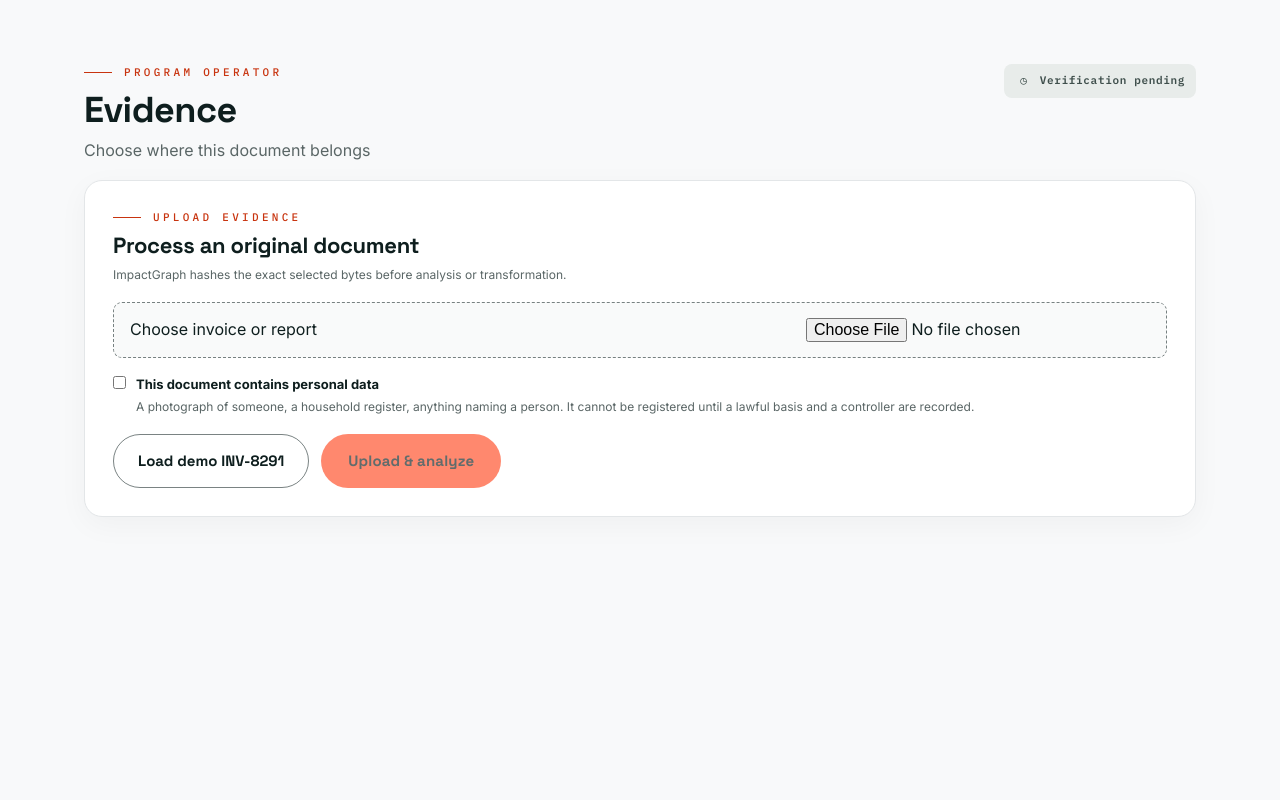
Operator evidence workflow › surfaces an actionable error when registration fails
Step 1. Click the button "Load demo INV-8291" → click(211, 461), box [113, 434, 309, 488]
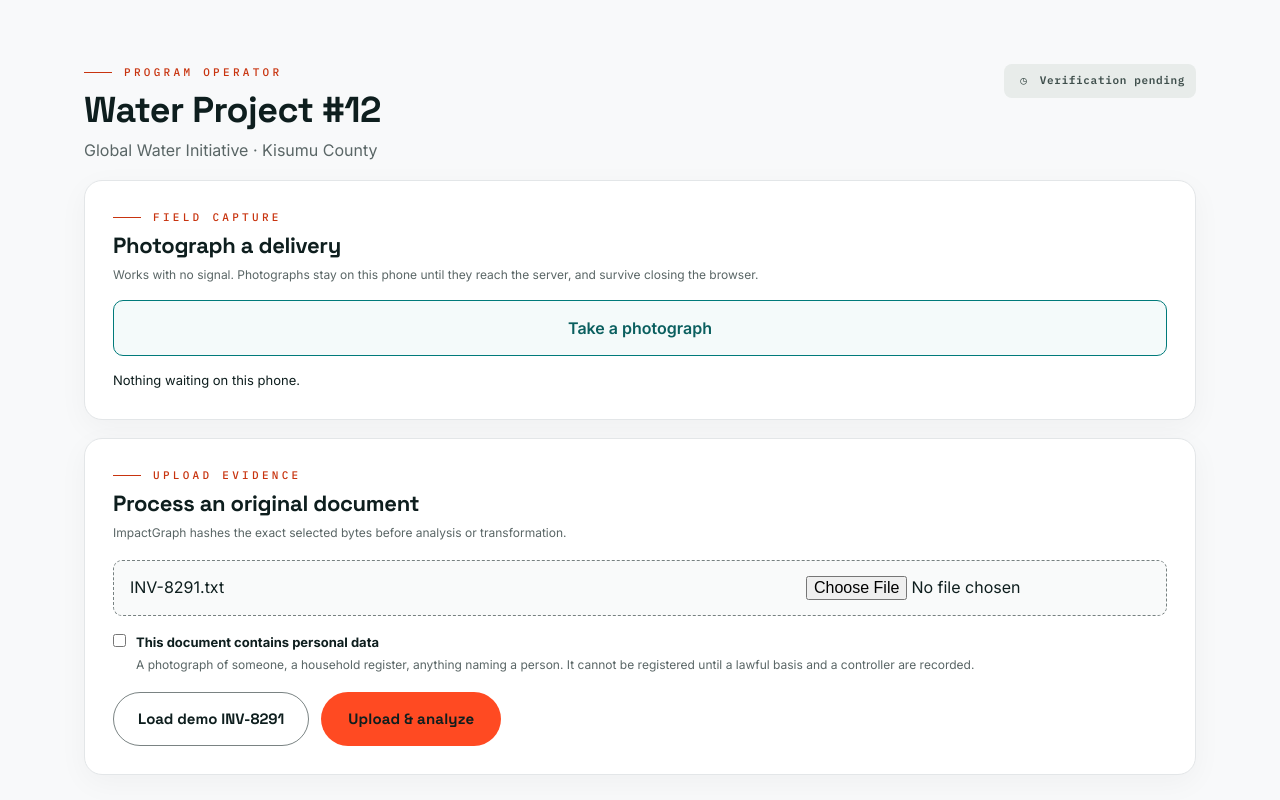
Expected: the button "Upload & analyze" is enabled
Step 2. Click the button "Upload & analyze" → click(411, 719), box [321, 692, 501, 746]
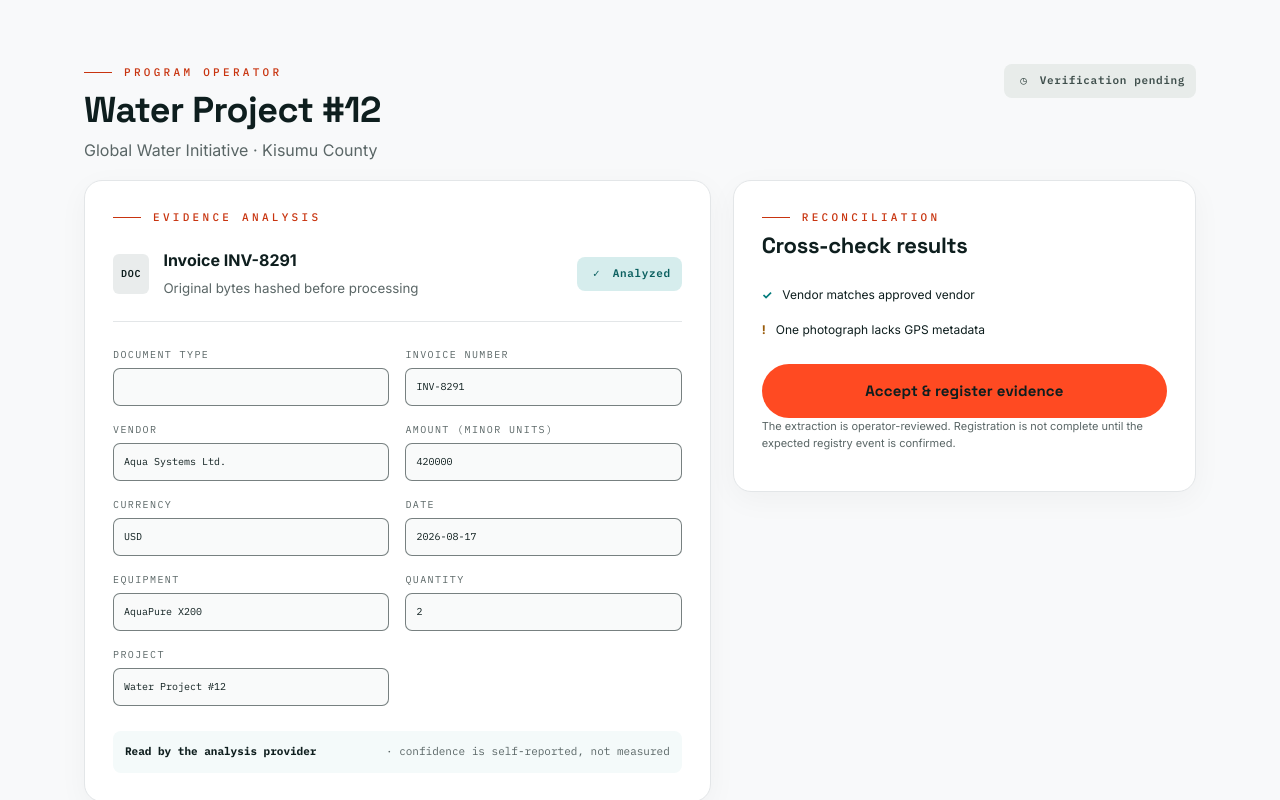
Expected: the text "Invoice INV-8291" is shown, [163, 250, 297, 270]
Step 3. Click the button "Accept & register evidence" → click(964, 390), box [762, 364, 1167, 418]
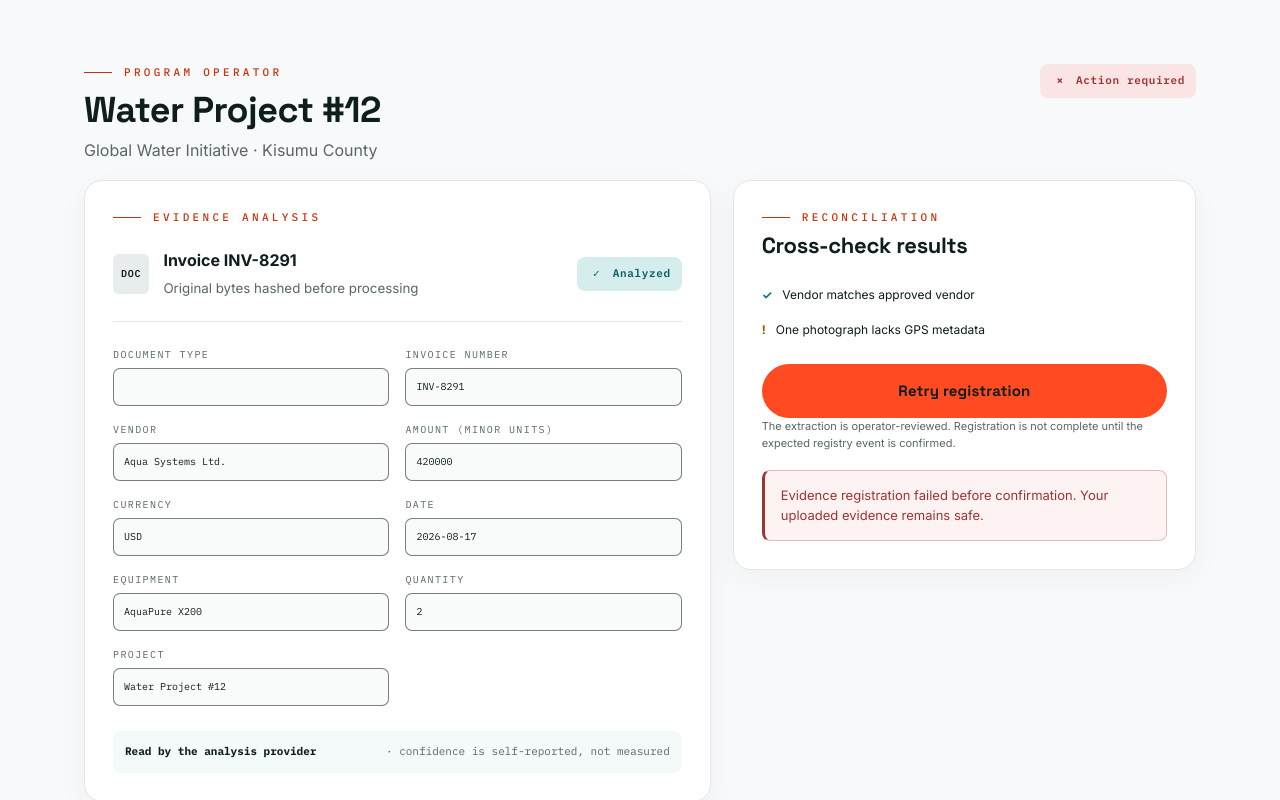
Expected: the message shows "remains safe", [781, 487, 1108, 523]
